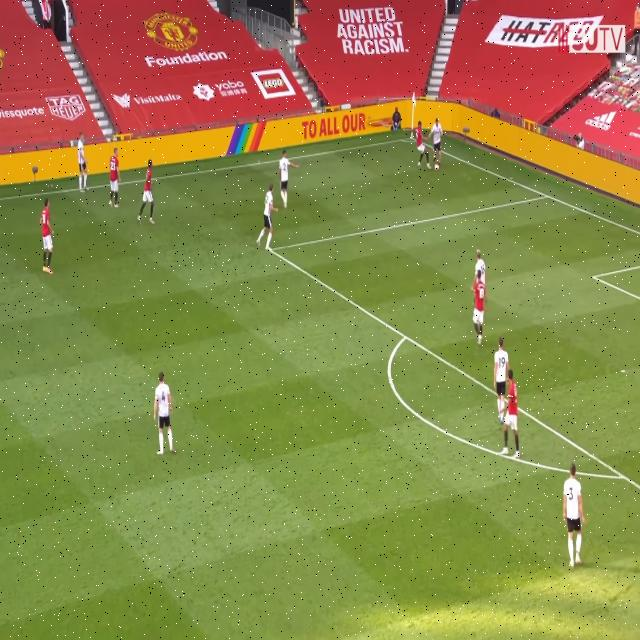Ball: (435, 163, 439, 172)
TEAM 1: (502, 371, 521, 463), (137, 158, 159, 225), (470, 273, 487, 346), (41, 199, 57, 276), (413, 120, 429, 168), (109, 148, 122, 207)
TEAM 2: (563, 466, 586, 571), (152, 372, 176, 458), (256, 186, 279, 252), (492, 336, 510, 420), (280, 149, 298, 210), (75, 135, 88, 192), (432, 119, 444, 168), (474, 244, 484, 278)
